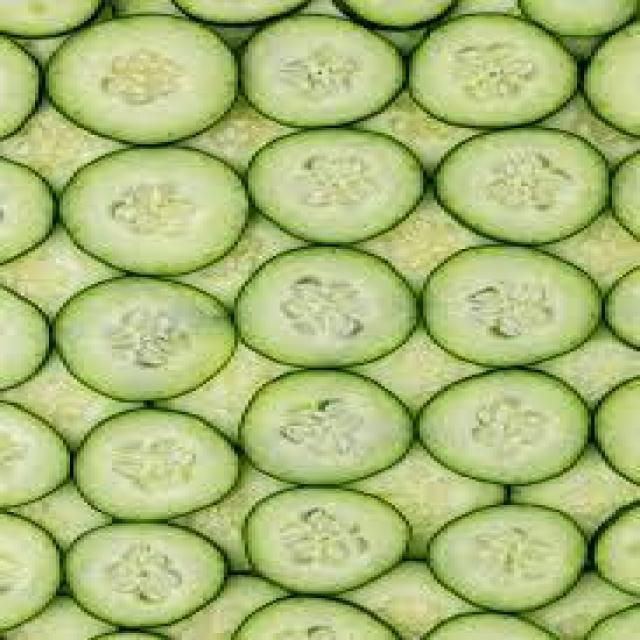Pickle: (45, 15, 237, 143), (60, 147, 246, 274), (54, 276, 235, 401), (235, 246, 417, 367), (423, 247, 599, 366), (436, 127, 609, 243), (248, 130, 423, 243), (240, 370, 413, 484), (417, 369, 590, 483), (409, 15, 577, 127), (73, 409, 239, 521), (240, 15, 404, 127), (248, 487, 409, 594), (428, 505, 586, 611), (66, 524, 225, 627), (1, 403, 70, 507), (233, 596, 398, 639), (1, 514, 60, 629), (582, 21, 639, 134), (4, 160, 54, 262), (1, 287, 49, 388), (594, 379, 639, 482), (520, 0, 636, 36), (594, 506, 639, 594), (1, 36, 39, 137), (0, 0, 101, 37), (426, 614, 556, 639), (342, 1, 453, 27), (175, 1, 306, 23), (605, 267, 639, 346), (610, 154, 639, 237), (586, 606, 640, 639)
